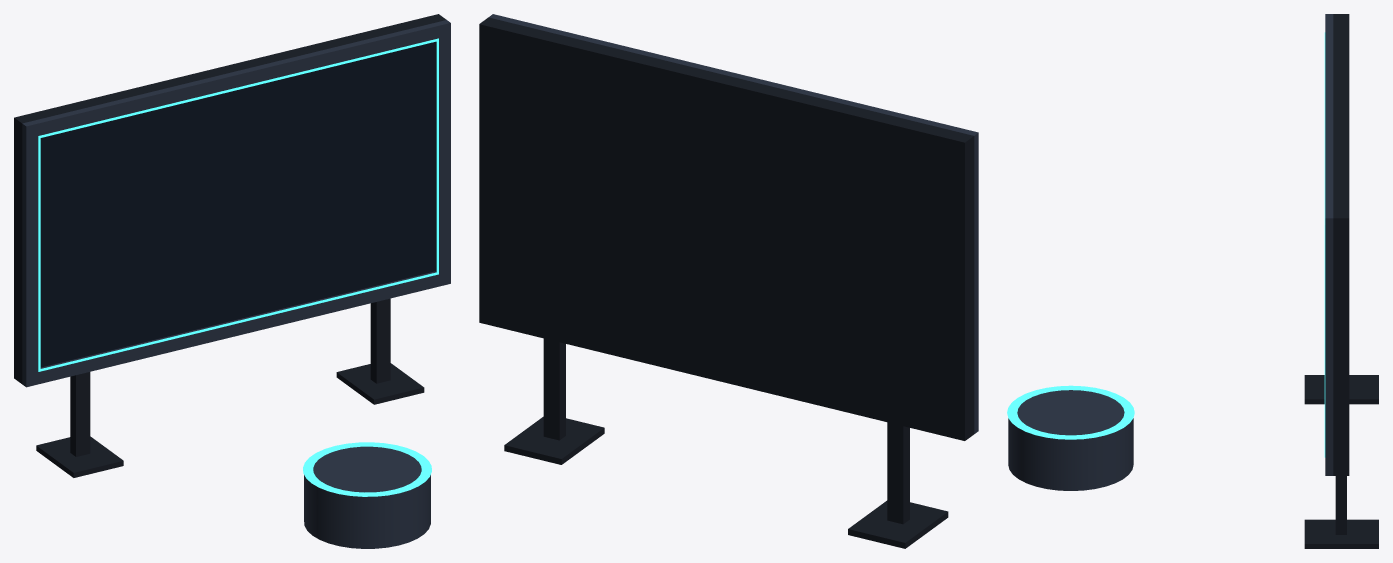
3 views of the same model, side by side, from view 1: azimuth 30°, elevation 25°; view 2: azimuth 150°, elevation 25°; view 3: azimuth 270°, elevation 25° (orthographic). The views are drawn at different scales.
Parts seen in each view (by area): view 1: nexo_frame.lod0; view 2: nexo_frame.lod0; view 3: nexo_frame.lod0.
Boxes of the visible parts, box(x1,y1,x2,y2) form: nexo_frame.lod0: box(14, 14, 450, 548); nexo_frame.lod0: box(479, 14, 978, 548); nexo_frame.lod0: box(1007, 14, 1378, 548).
Bounding box in the file's own units: 4.24 × 3.37 × 3.26.
